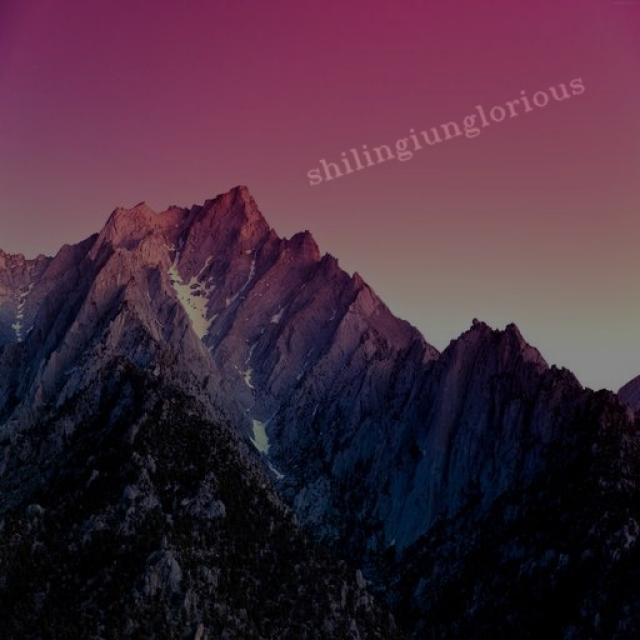watermark: (301, 67, 587, 190)
